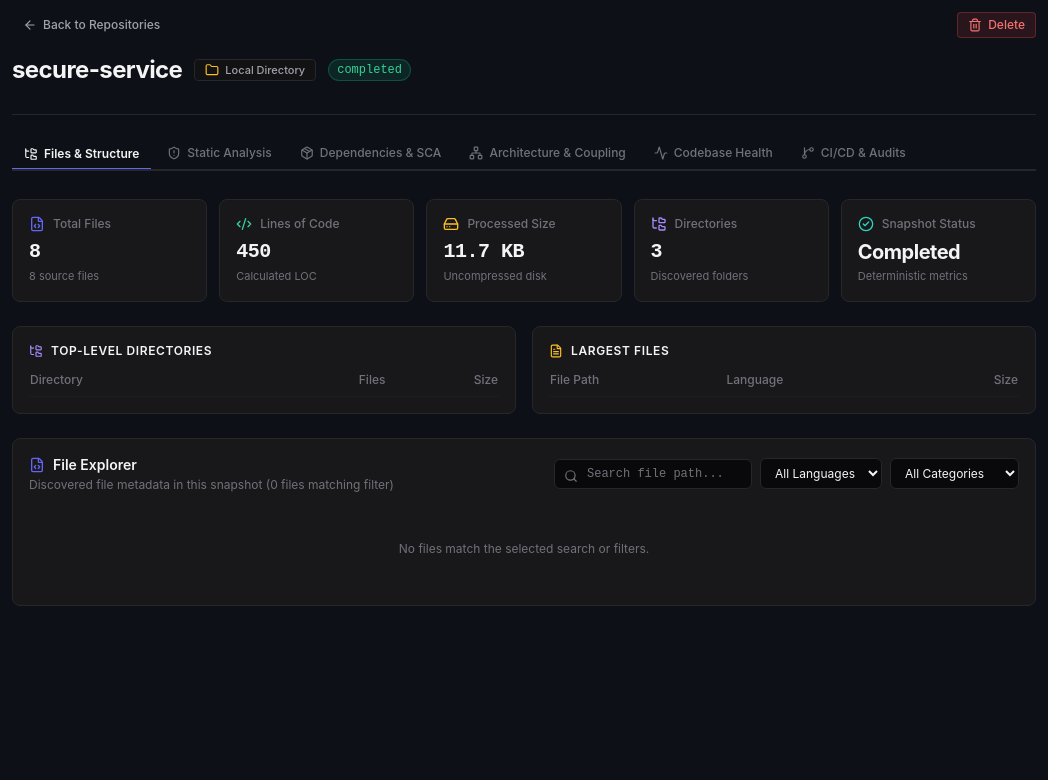
Test case: Phase 4 Application Security Intelligence View › displays confidence breakdown and security findings badges in summary cards
Click the button "Static Analysis" at (220, 154), box 155,139 -> 284,169
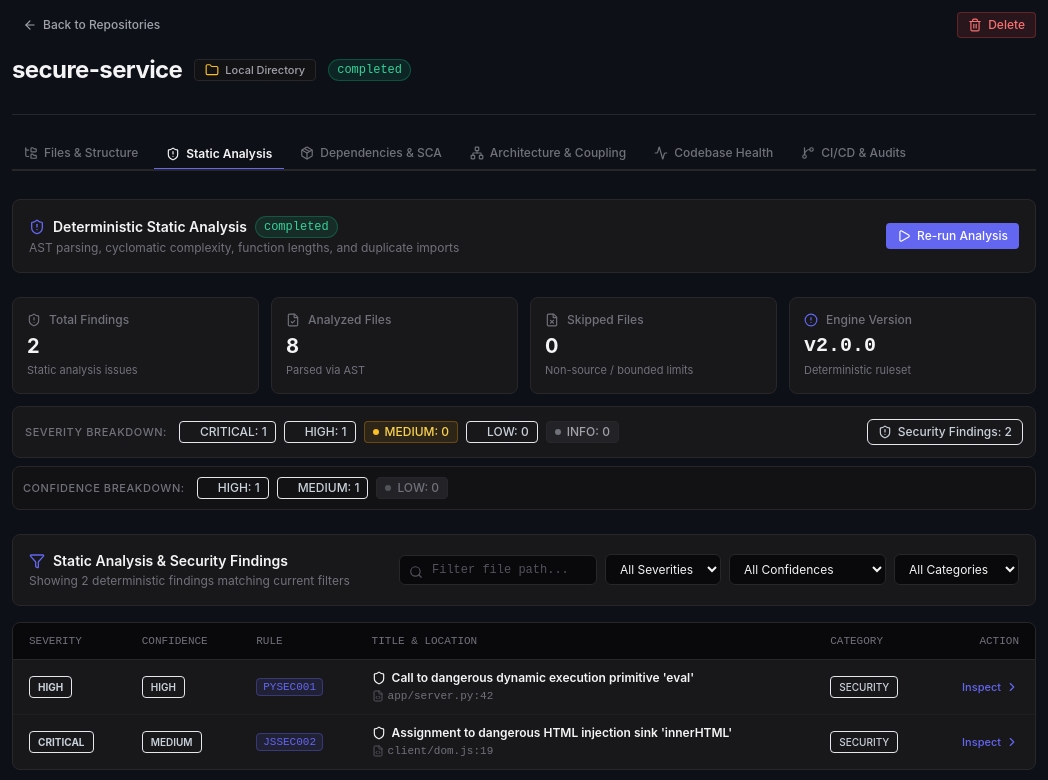
Check: the text "Security Findings: 2" is shown, box 898,424 -> 1012,440
Check: the text "CRITICAL: 1" is shown, box 179,420 -> 276,442
Check: the text "HIGH: 1" is shown 2 times, box 284,420 -> 356,442; 197,476 -> 269,498
